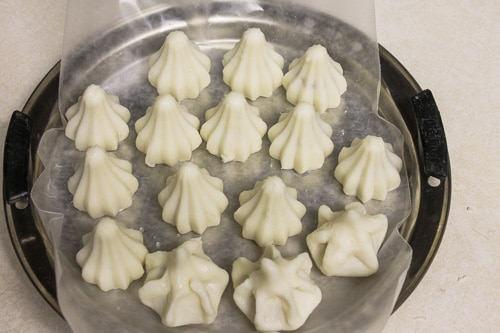modak: (315, 195, 403, 285), (145, 241, 235, 327), (232, 252, 324, 331), (58, 144, 156, 213), (76, 219, 153, 295), (68, 81, 142, 156), (150, 28, 227, 100), (203, 85, 268, 165), (142, 90, 205, 168), (283, 44, 356, 111), (266, 104, 336, 172), (242, 170, 303, 242), (222, 31, 288, 96), (339, 139, 406, 201), (156, 173, 233, 225)
